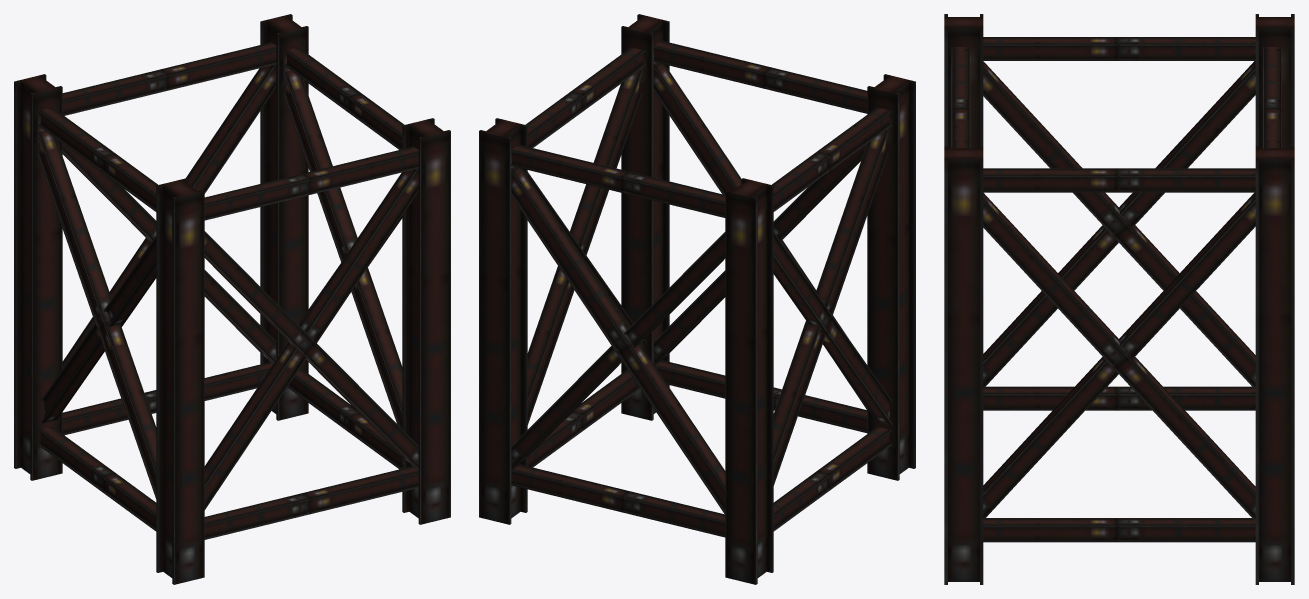
File: Beam_04.FBX
3 renders of one model, left to right at view 1: azimuth 30°, elevation 25°; view 2: azimuth 150°, elevation 25°; view 3: azimuth 270°, elevation 25°, orthographic. The views are drawn at different scales.
Visible parts, largest first — view 1: Beam_04; view 2: Beam_04; view 3: Beam_04.
Boxes of the visible parts, bbox=[...] form: Beam_04: bbox=[14, 14, 450, 584]; Beam_04: bbox=[479, 14, 915, 584]; Beam_04: bbox=[944, 14, 1294, 584].
Bounding box in the file's own units: 225 × 300 × 225.
